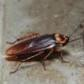cockroach: (5, 32, 70, 62)
